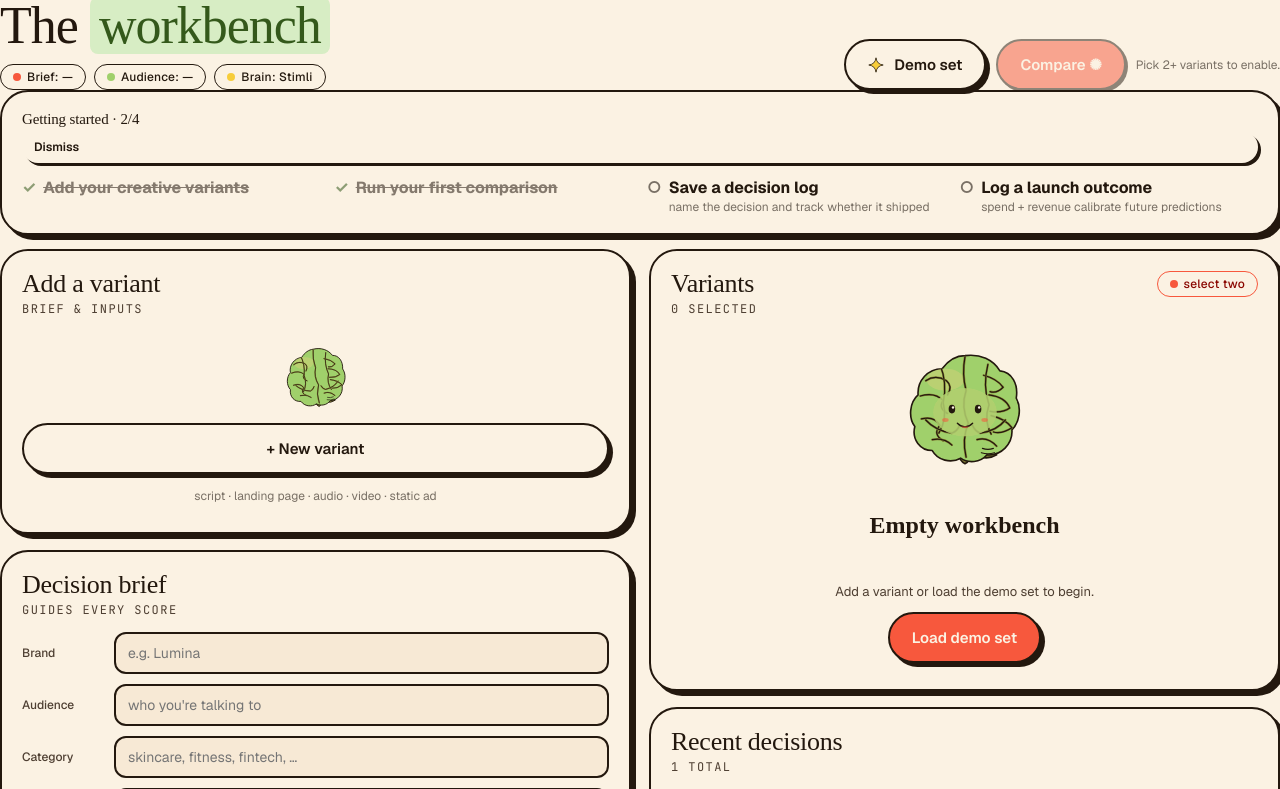
it: Workbench › shows the getting-started checklist for partially-onboarded workspaces and dismisses persistently
Check: the heading "Getting started · 2/4" is shown, box [22, 111, 139, 127]
Check: the text "Save a decision log" is shown, box [669, 177, 819, 198]
Click the button with aria-label "dismiss the getting-started checklist".
click(57, 147)  # box [22, 131, 1258, 163]
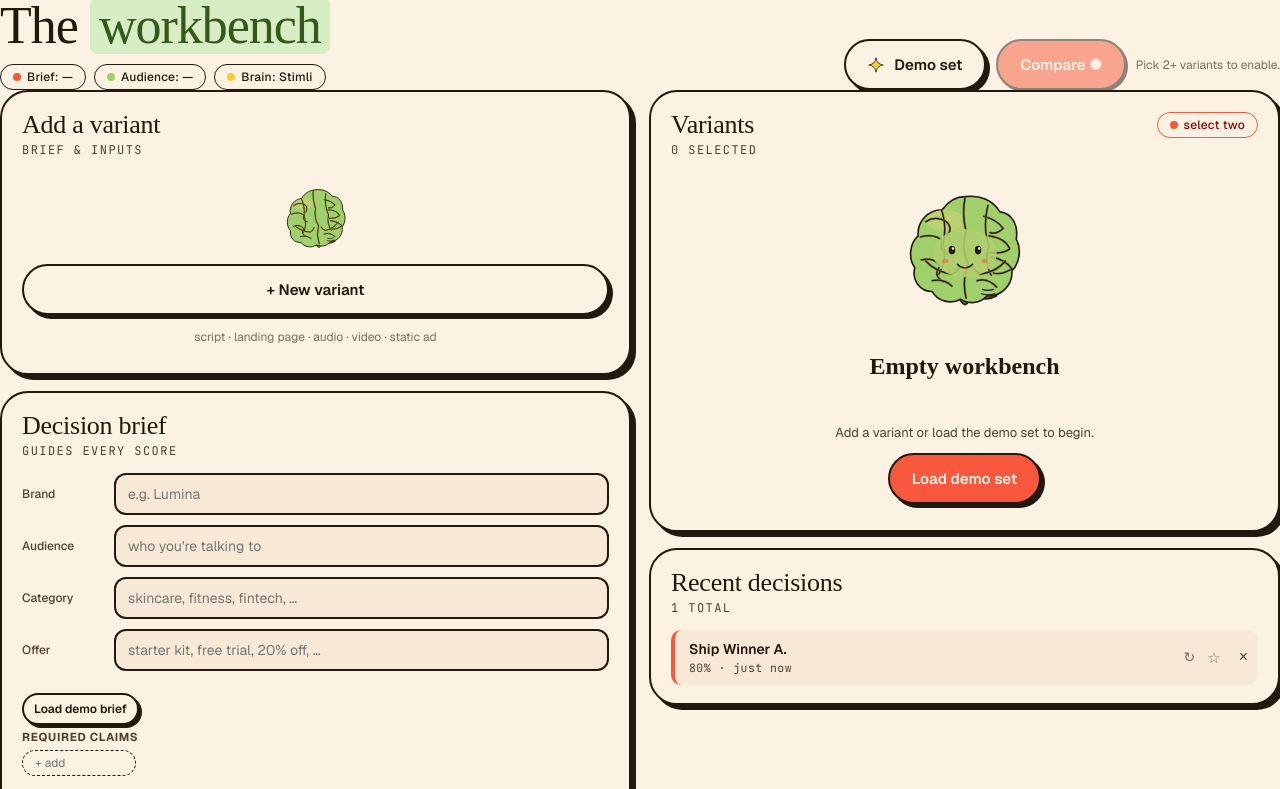
Check: the button with test id "getting-started" is gone
